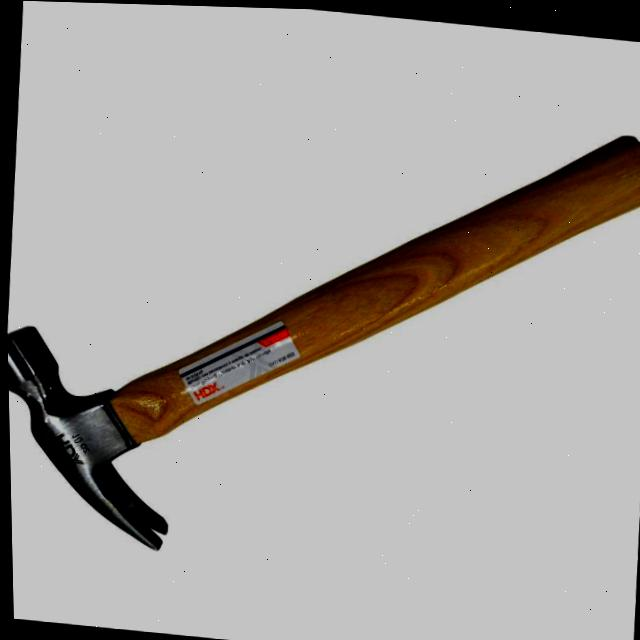hammer: (1, 66, 640, 599)
